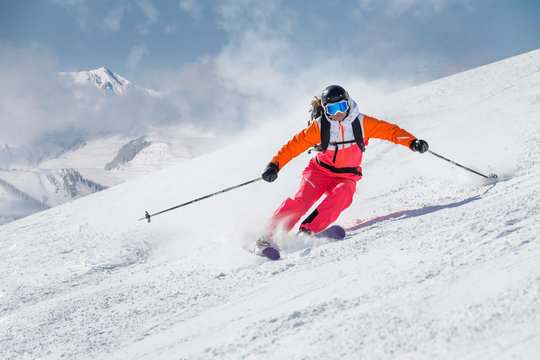skier: (130, 82, 502, 268)
